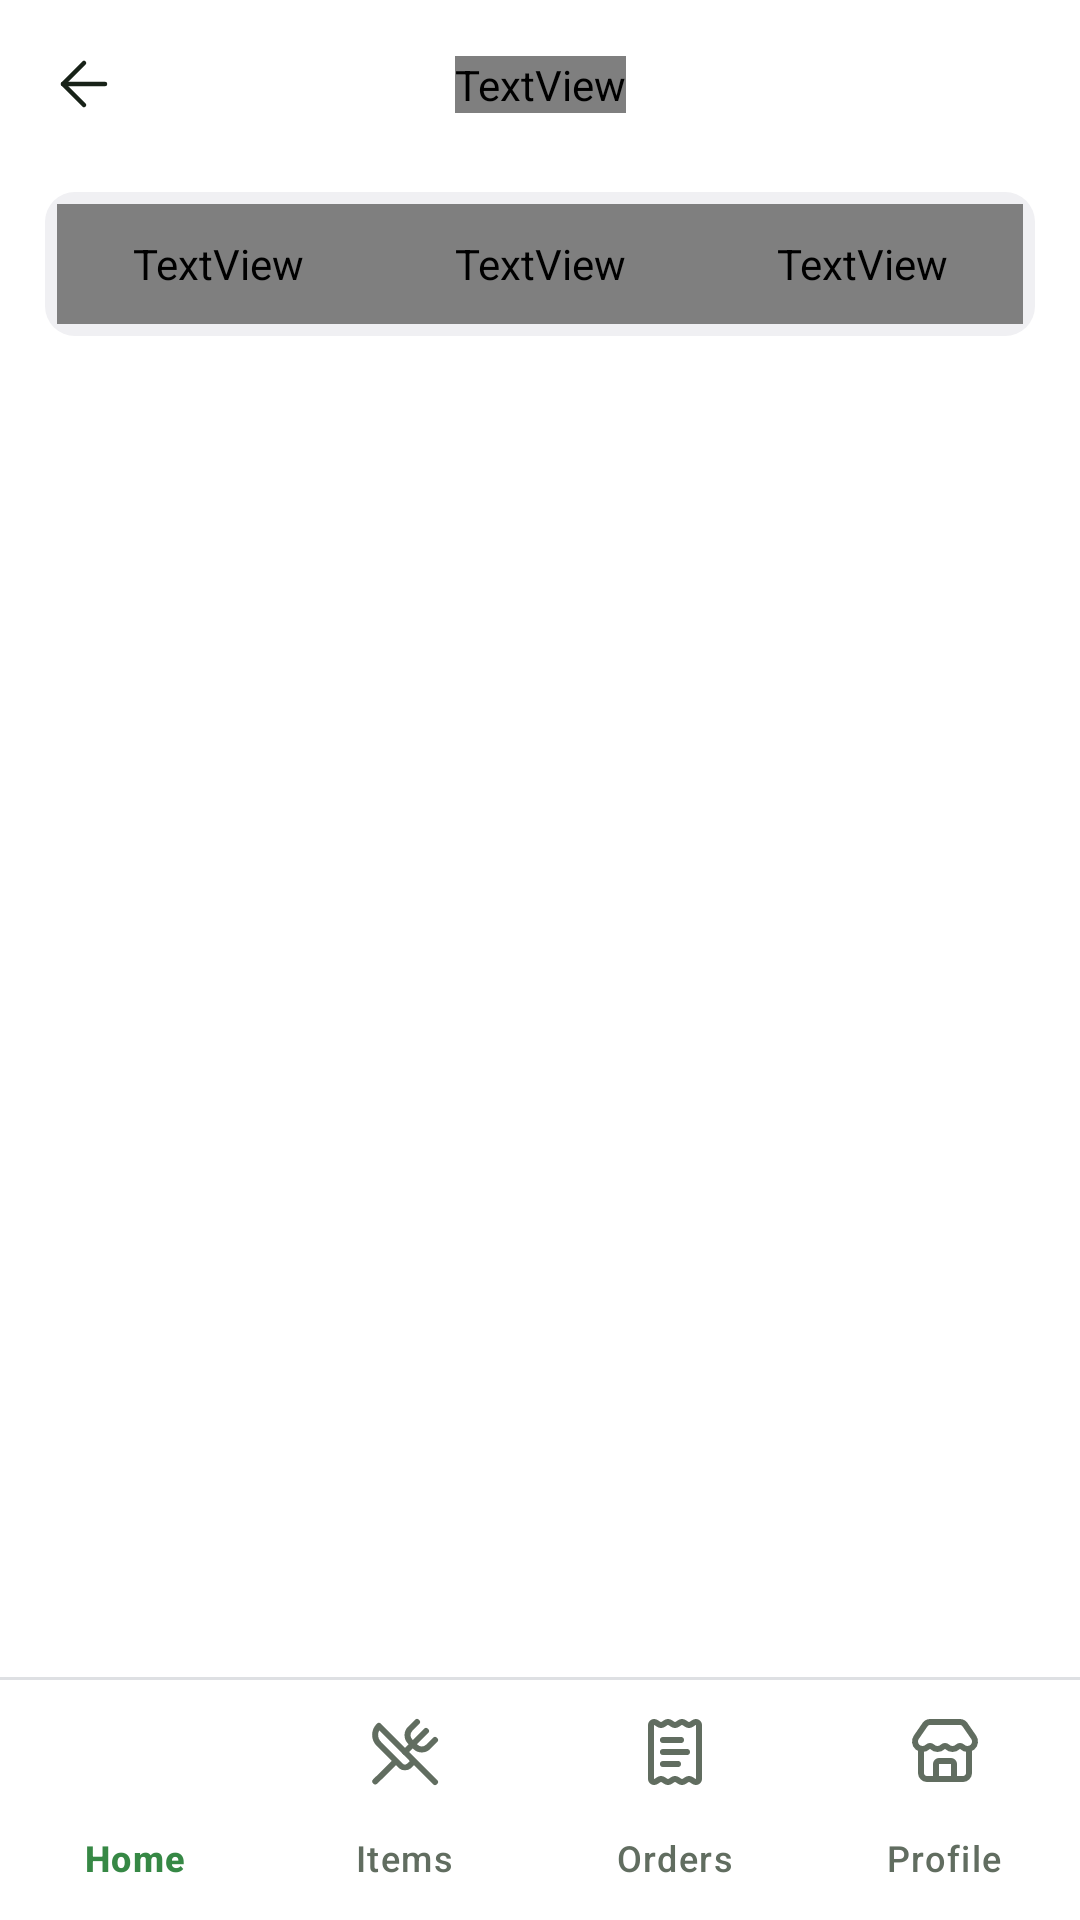

Named icons in this screenshot (1080x1920) and their centers, [x,y]:
Back: [83,84]
